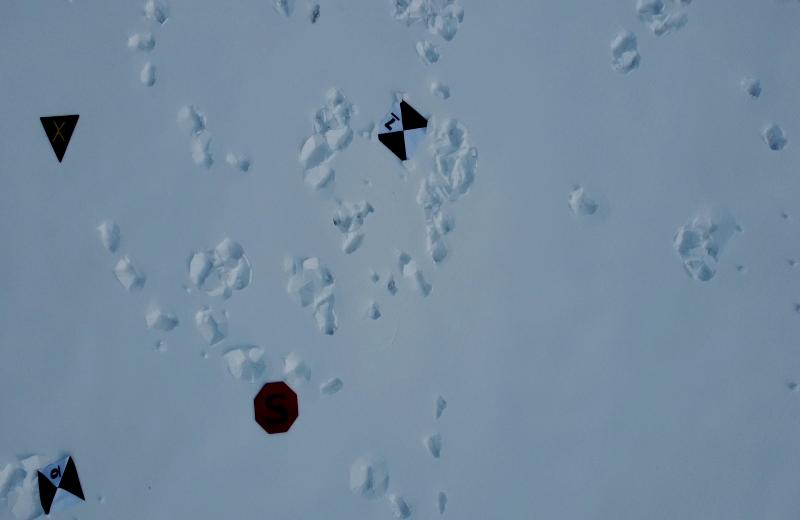Octagon: (252, 380, 299, 434)
Triangle: (39, 107, 82, 165)
